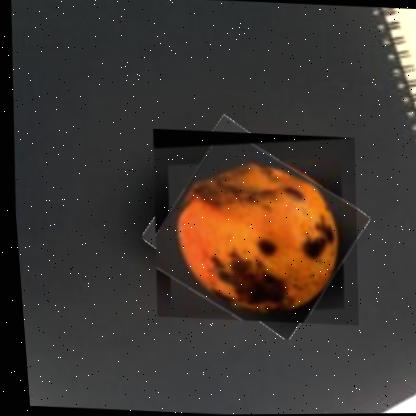mango_rotten: (139, 126, 363, 327)
